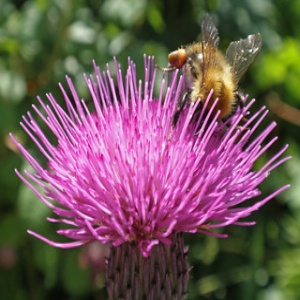bee: (169, 14, 262, 138)
